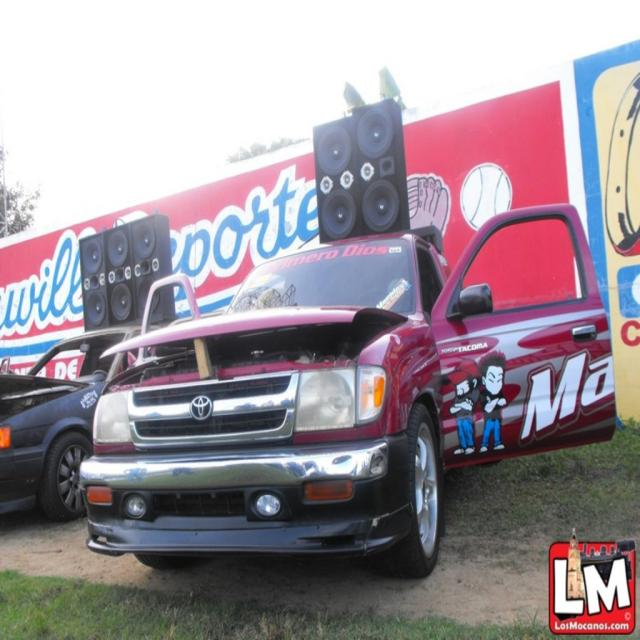car: (79, 200, 617, 577)
